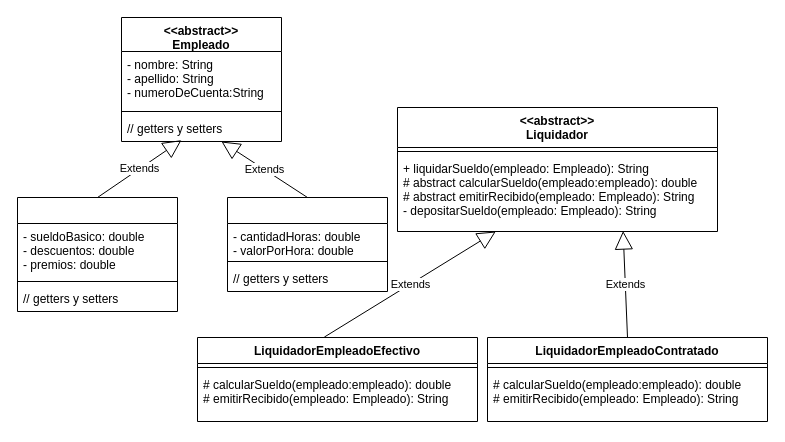
Some shapes in this 785 by 442 pixel diagram are drawn without their labels. Here are the shapes that lost their labels. From the top down, the box of each, then its label:
(16, 196, 178, 312): EmpleadoEfectivo
(226, 196, 388, 292): EmpleadoContratado
